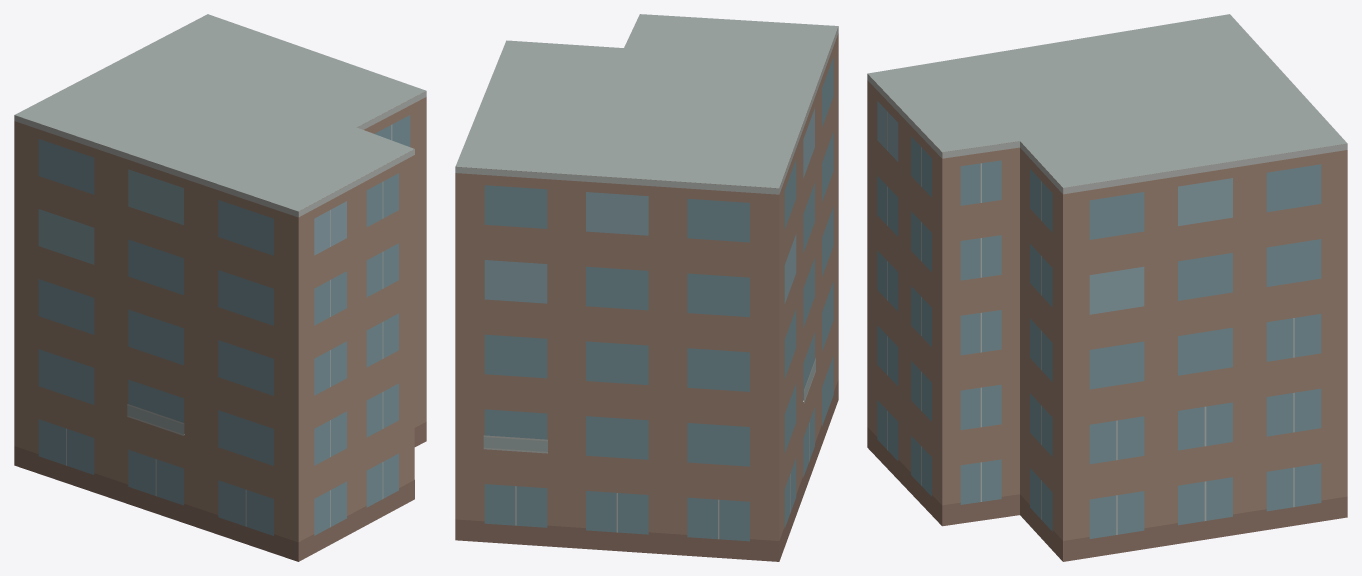
File: survey-upis-32857796.glb
The picture shows the model from 3 angles, left to right: view 1: azimuth 30°, elevation 25°; view 2: azimuth 150°, elevation 25°; view 3: azimuth 270°, elevation 25°; orthographic projection. The views are drawn at different scales.
Visible parts, largest first — view 1: survey-upis-32857796.tmp; view 2: survey-upis-32857796.tmp; view 3: survey-upis-32857796.tmp.
Part boxes in pixels (box(x1,y1,x2,y2)): survey-upis-32857796.tmp: box(14, 14, 426, 561); survey-upis-32857796.tmp: box(455, 14, 838, 561); survey-upis-32857796.tmp: box(867, 14, 1347, 561).
Bounding box in the file's own units: 14.28 × 14.3 × 16.66.
